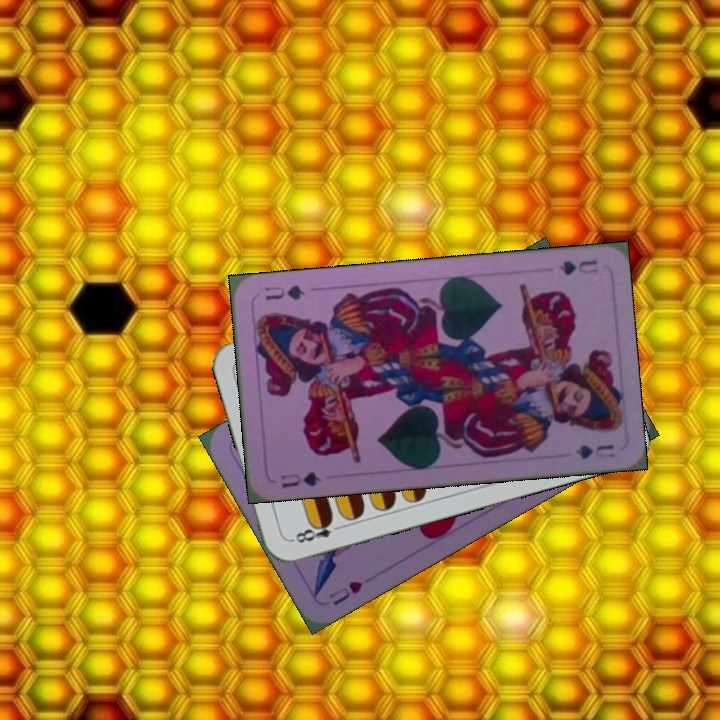E8: (287, 514, 346, 546)
GU: (277, 467, 324, 491), (555, 256, 601, 278)
HU: (325, 576, 365, 608)
